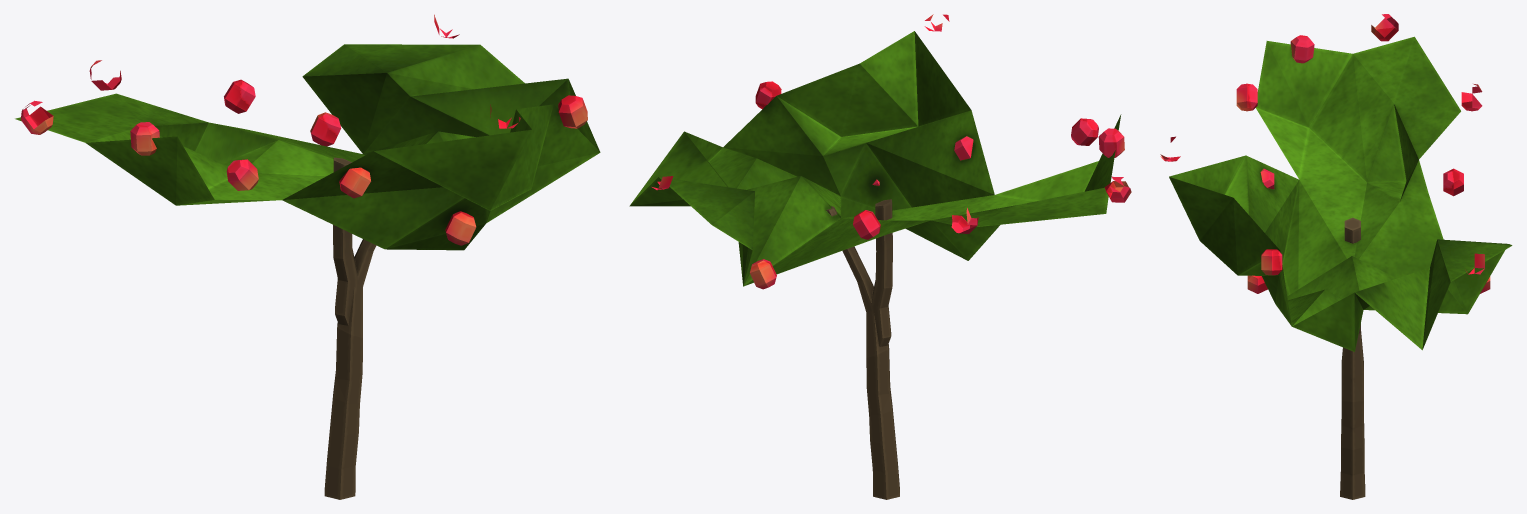
The model's file is AppleTree_Sapling.gltf.
3 views of the same model, side by side, from view 1: azimuth 30°, elevation 25°; view 2: azimuth 150°, elevation 25°; view 3: azimuth 270°, elevation 25° (orthographic). The views are drawn at different scales.
Visible parts, largest first — view 1: node-0; view 2: node-0; view 3: node-0.
Boxes of the visible parts, box(x1,y1,x2,y2) form: node-0: box(15, 14, 600, 499); node-0: box(629, 14, 1131, 499); node-0: box(1160, 14, 1512, 499).
Bounding box in the file's own units: 6.49 × 5.17 × 4.41.
Materials: 1 (1 with a texture image).
